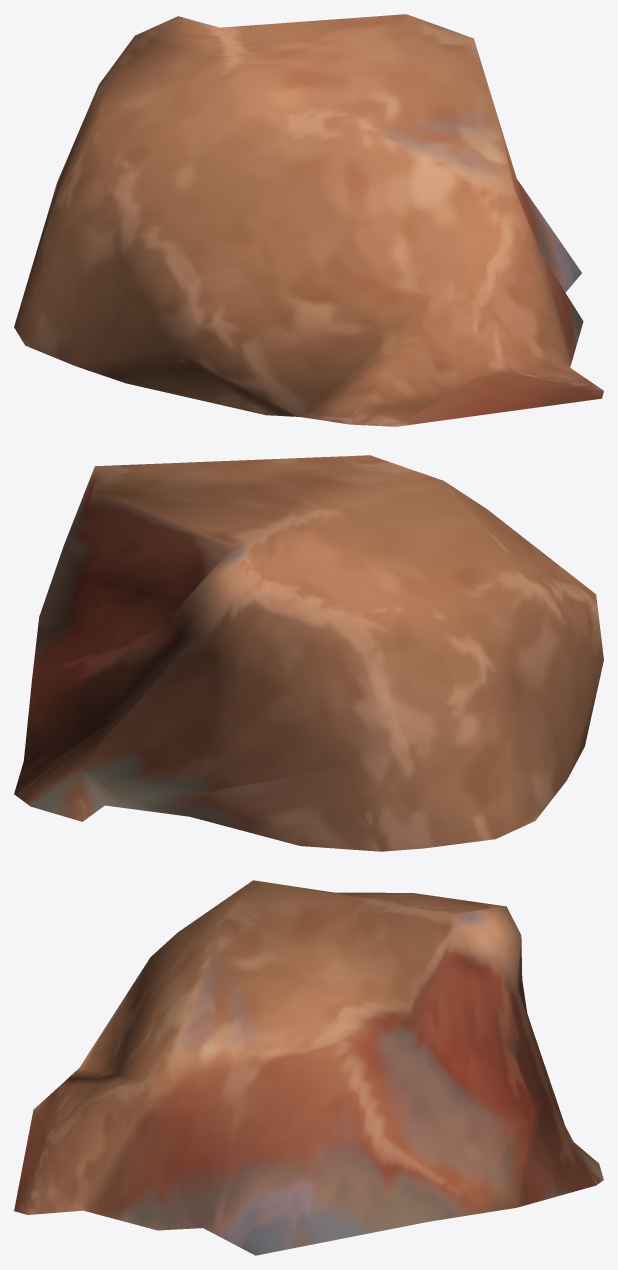
File: rock_new01.FBX
3 views of the same model, one above another, from view 1: azimuth 30°, elevation 25°; view 2: azimuth 150°, elevation 25°; view 3: azimuth 270°, elevation 25° (orthographic). The views are drawn at different scales.
Visible parts, largest first — view 1: rock_new01; view 2: rock_new01; view 3: rock_new01.
Boxes of the visible parts, x1,y1,x2,y2 form: rock_new01: (14, 14, 603, 426); rock_new01: (14, 455, 603, 851); rock_new01: (14, 880, 603, 1255).
Size of the model in its own units: 715 by 336 by 787.
Materials: 1 (1 with a texture image).
